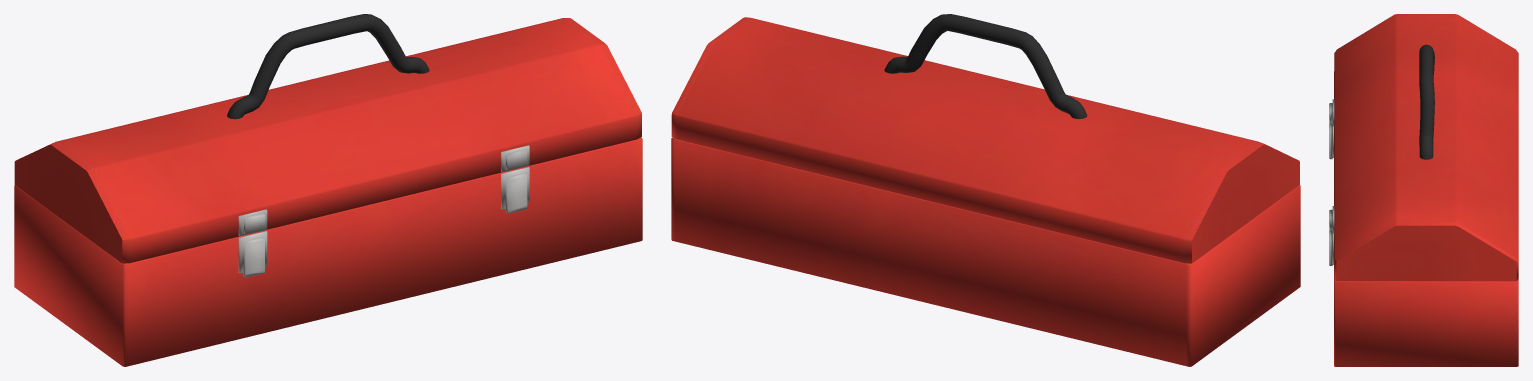
Rendered from Toolbox.fbx.
3 views of the same model, side by side, from view 1: azimuth 30°, elevation 25°; view 2: azimuth 150°, elevation 25°; view 3: azimuth 270°, elevation 25° (orthographic). The views are drawn at different scales.
Visible parts, largest first — view 1: Lid, Base; view 2: Lid, Base; view 3: Lid, Base.
Part boxes in pixels (x1=…): Lid: x1=14, y1=14, x2=641, y2=263; Base: x1=14, y1=137, x2=642, y2=366; Lid: x1=671, y1=14, x2=1299, y2=263; Base: x1=671, y1=137, x2=1300, y2=366; Lid: x1=1329, y1=14, x2=1518, y2=281; Base: x1=1329, y1=71, x2=1518, y2=366.
Bounding box in the file's own units: 1.58 × 0.7027 × 0.5997.
